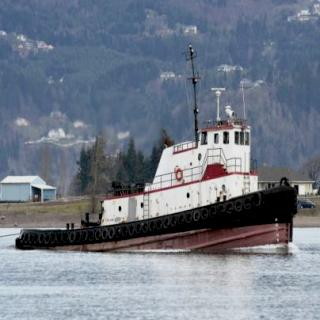Tug Boat: (20, 66, 300, 251)
